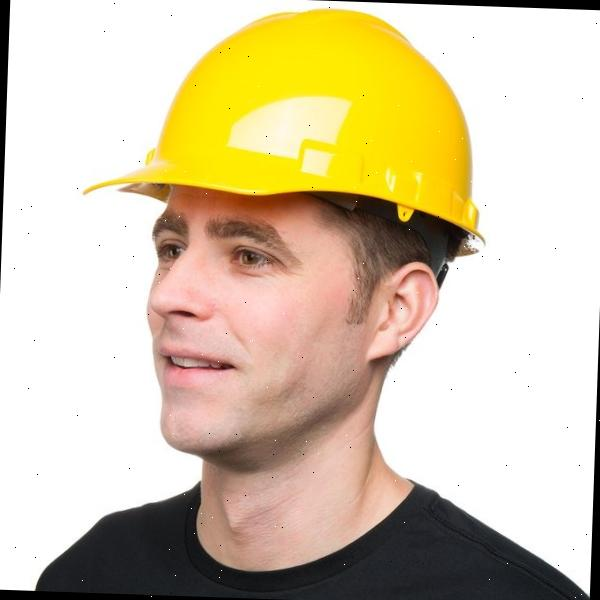helmet: (76, 0, 500, 259)
no_wear: (34, 464, 593, 600)
